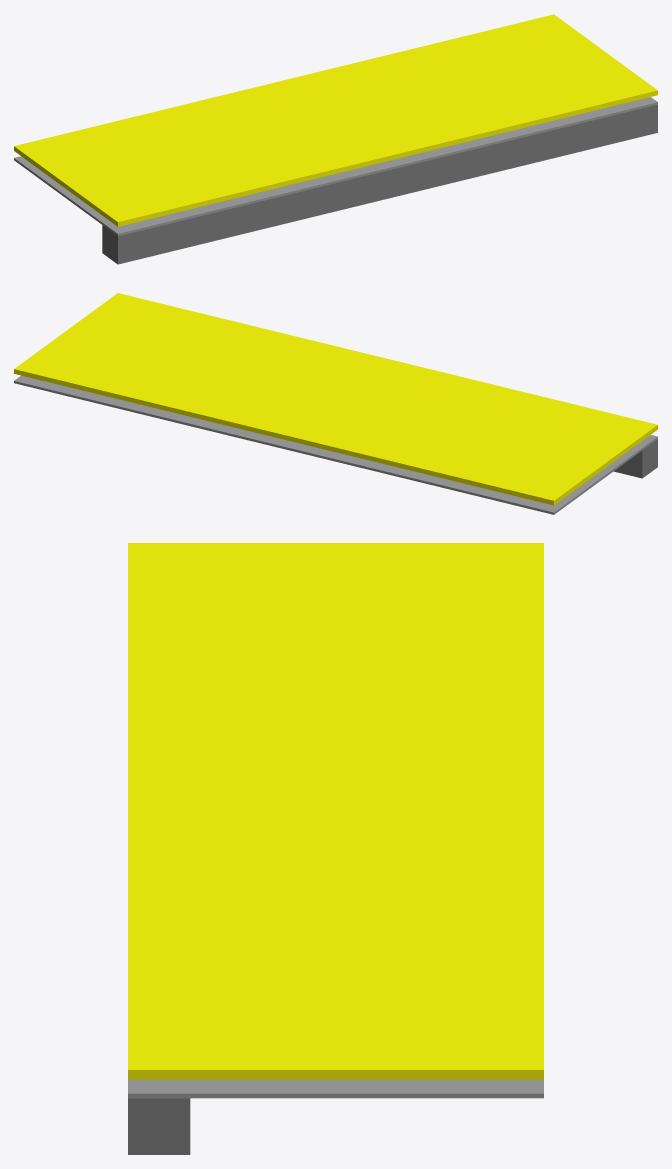
File: Chữ nổi mặt alu chân fomex.obj
The picture shows the model from 3 angles, top to bottom: view 1: azimuth 30°, elevation 25°; view 2: azimuth 150°, elevation 25°; view 3: azimuth 270°, elevation 25°; orthographic projection. The views are drawn at different scales.
Parts seen in each view (by area): view 1: denled, khungsatdo, bematalu; view 2: denled, bematalu, khungsatdo; view 3: denled, bematalu, khungsatdo.
Part boxes in pixels (x1,y1,x2,y2): denled: (14,14,657,226); khungsatdo: (102,104,657,264); bematalu: (14,97,657,236); denled: (14,293,657,505); bematalu: (14,375,657,514); khungsatdo: (613,439,657,478); denled: (128,543,543,1079); bematalu: (128,1079,543,1098); khungsatdo: (128,1098,190,1154).
Size of the model in its own units: 1.2 by 0.09 by 0.4.
